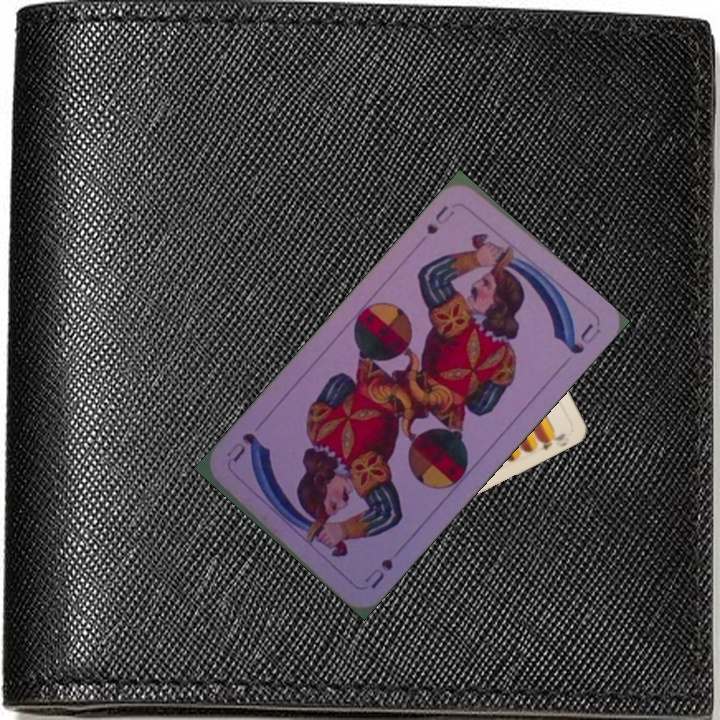SU: (360, 555, 396, 591), (422, 201, 458, 237)
